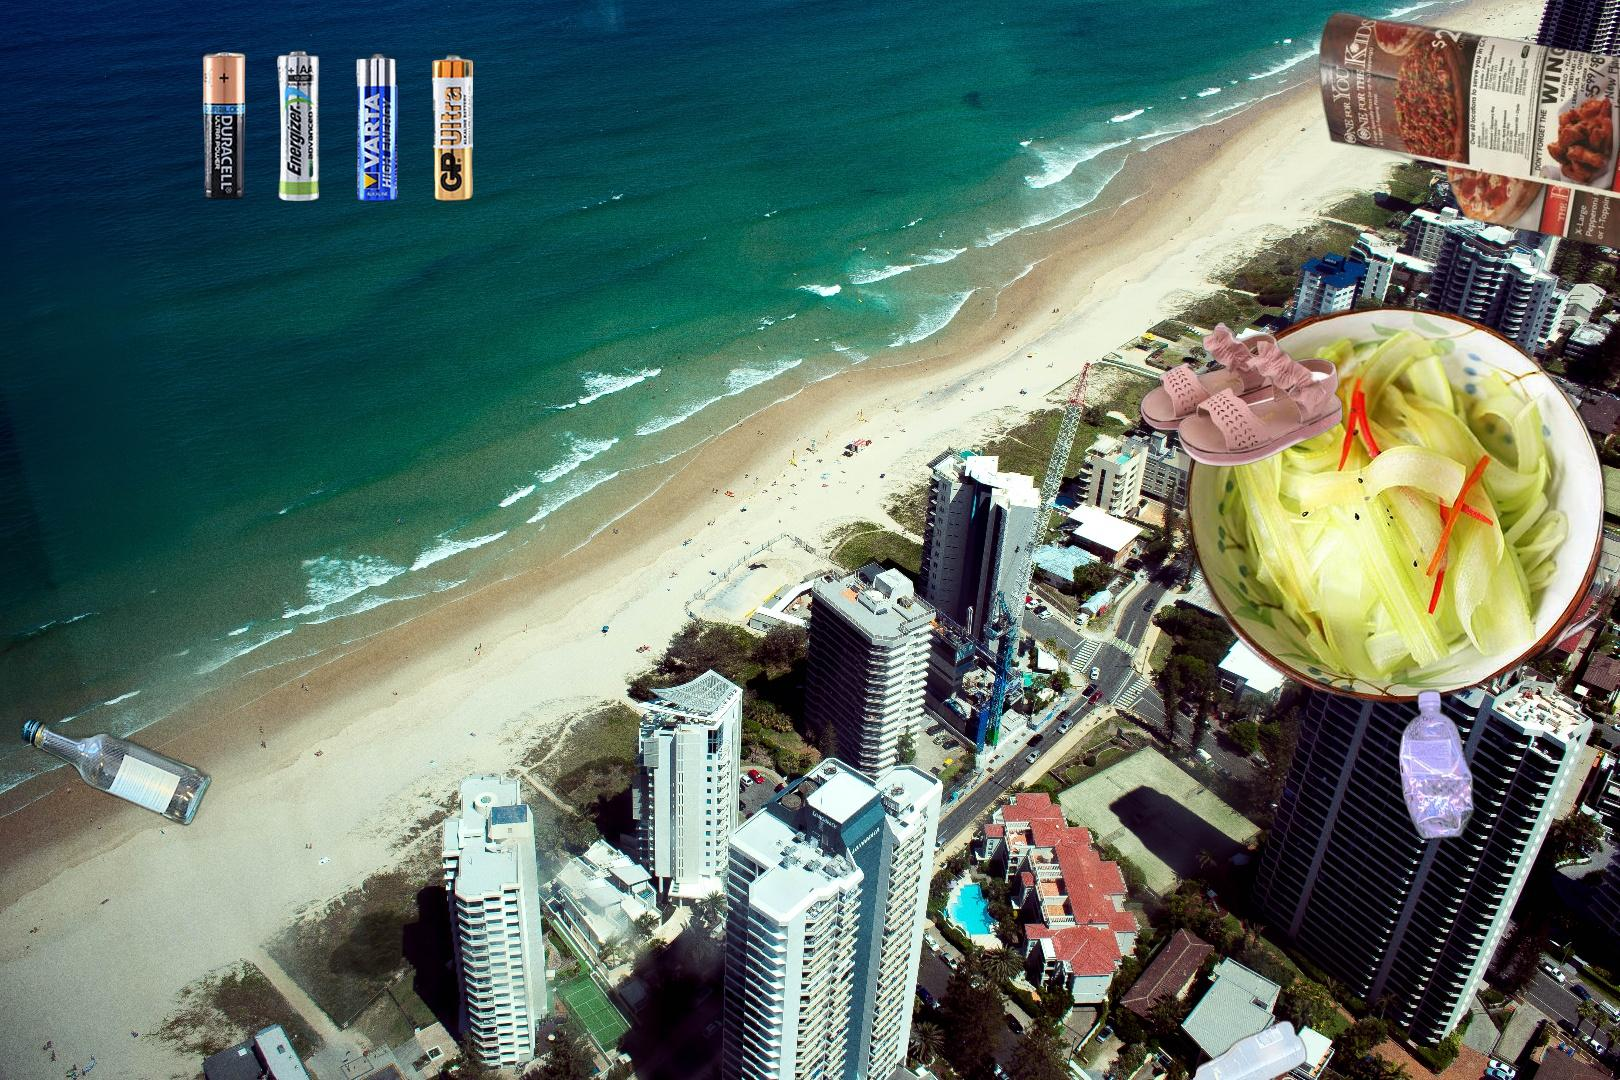battery: (200, 48, 472, 204)
biological: (1170, 108, 1620, 711)
glass: (18, 714, 215, 832)
paper: (1315, 10, 1620, 286)
paper-bag: (277, 1074, 542, 1080)
plastic-bottles: (1179, 1014, 1592, 1080), (1395, 683, 1479, 846)
shoes: (1138, 319, 1346, 469)
